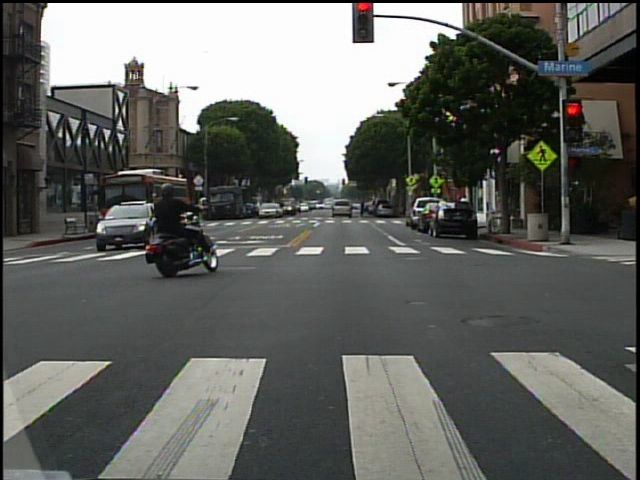person: (136, 174, 220, 285)
